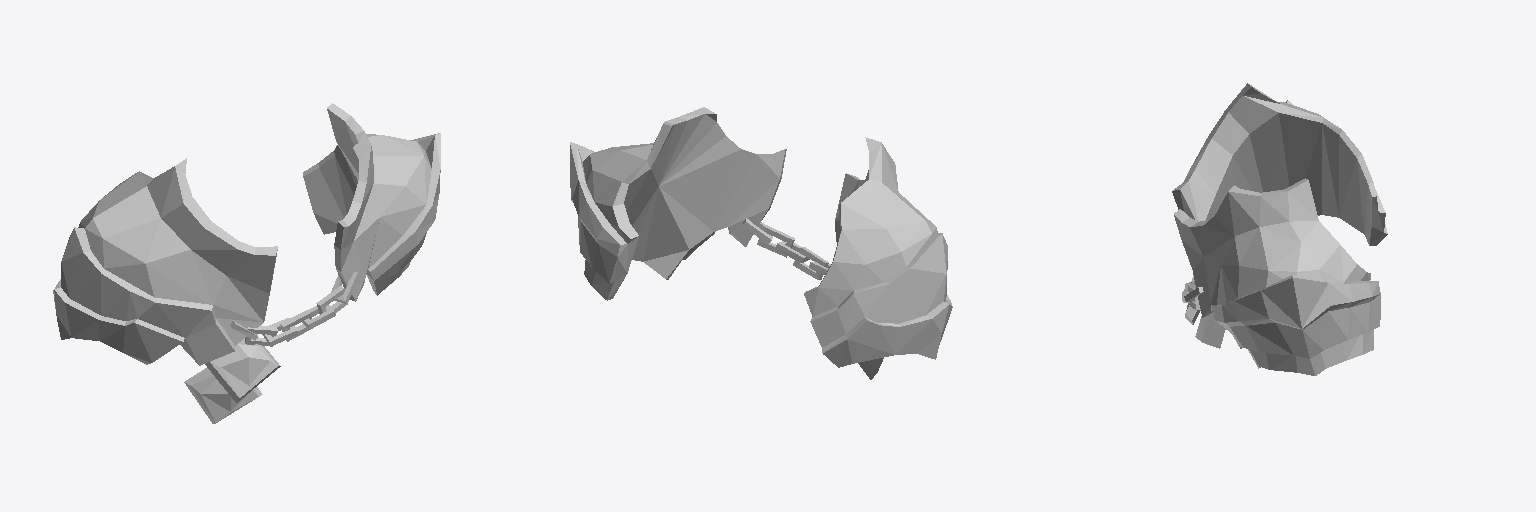
File: doom_bringer_mat_ID_chest.obj
The picture shows the model from 3 angles: view 1: azimuth 30°, elevation 25°; view 2: azimuth 150°, elevation 25°; view 3: azimuth 270°, elevation 25°; orthographic projection.
Visible parts, largest first — view 1: shoulders Doom_geo; view 2: shoulders Doom_geo; view 3: shoulders Doom_geo.
Boxes of the visible parts, x1=… form: shoulders Doom_geo: x1=53, y1=103, x2=440, y2=423; shoulders Doom_geo: x1=570, y1=107, x2=952, y2=379; shoulders Doom_geo: x1=1172, y1=83, x2=1387, y2=375.
Size of the model in its own units: 1.34 by 0.8586 by 0.6545.